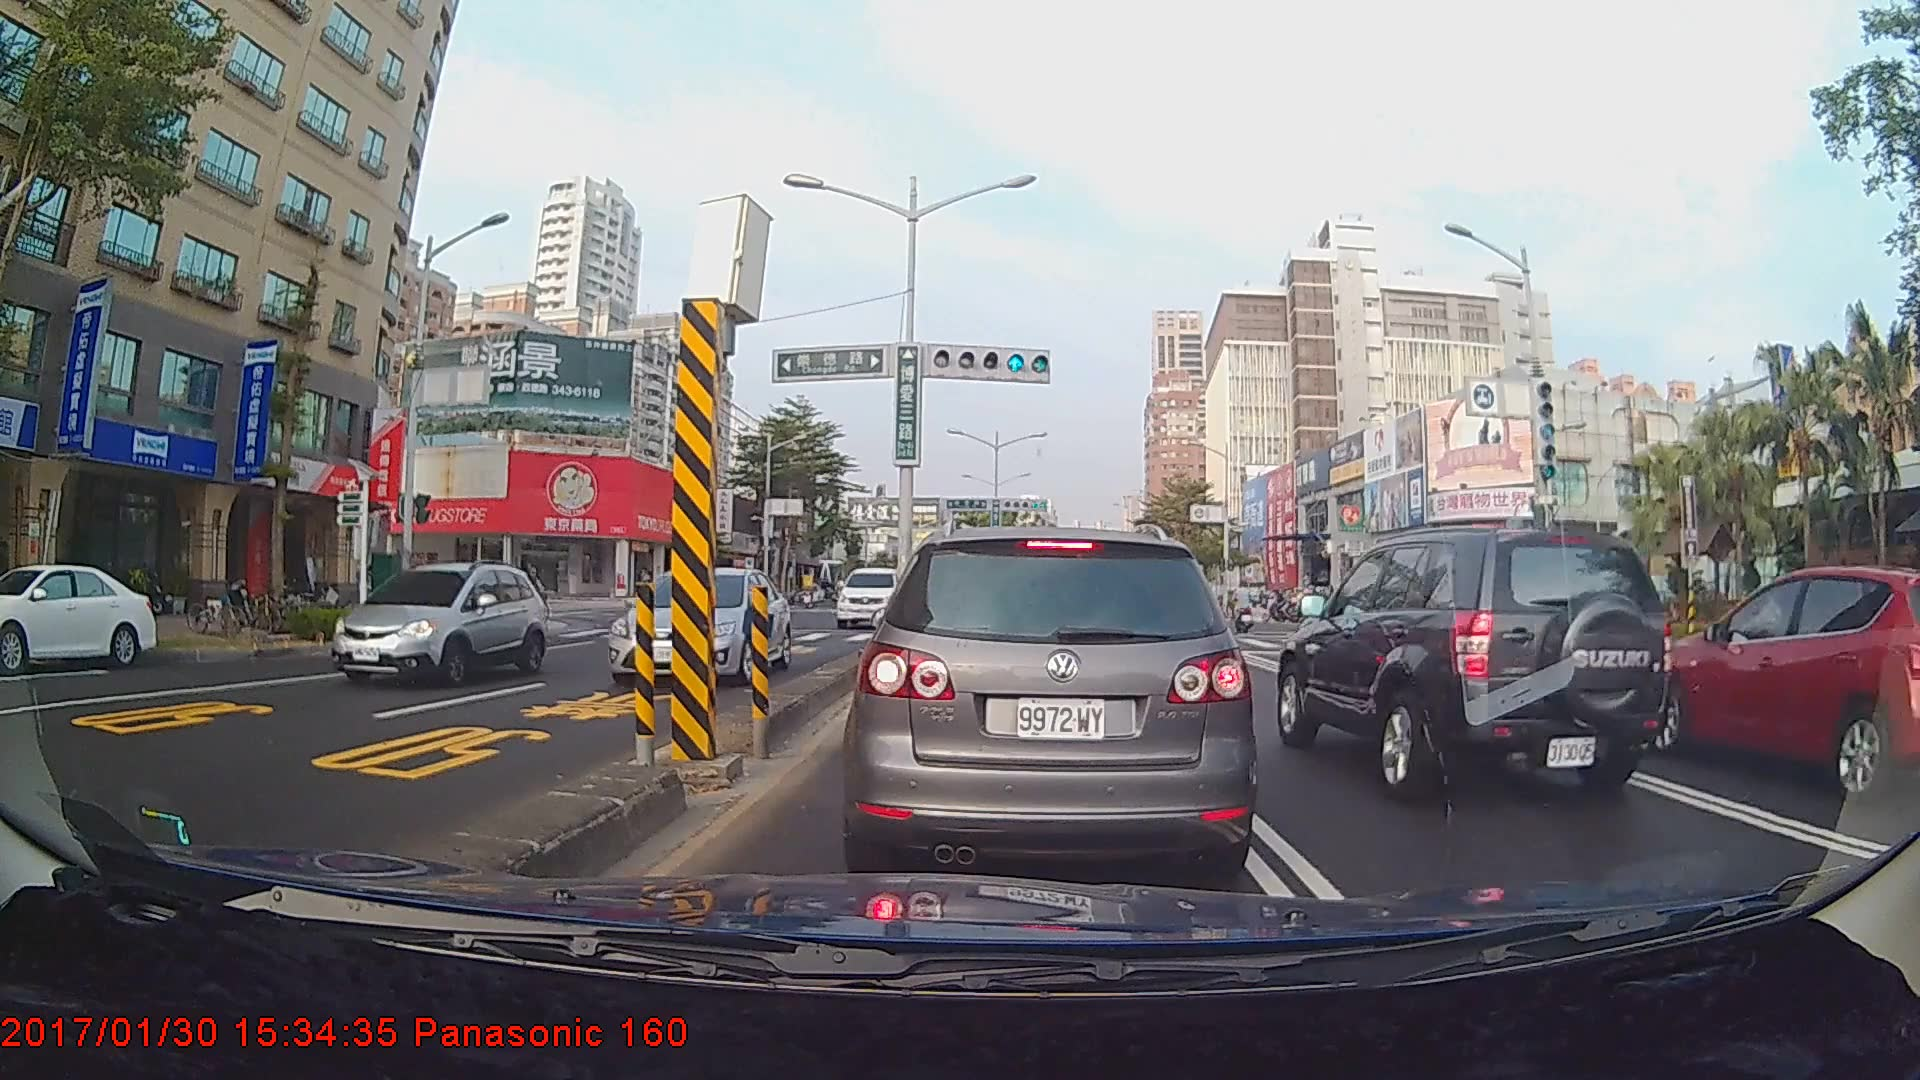rider: (1227, 578, 1259, 633)
vehicle: (851, 522, 1255, 885), (1275, 525, 1675, 803), (1627, 563, 1920, 807), (329, 557, 548, 687), (605, 565, 792, 688), (0, 561, 158, 671), (833, 564, 908, 628)
